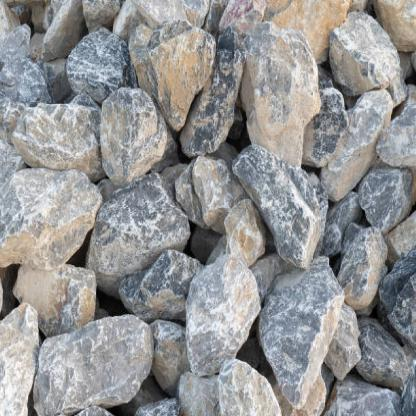Sedimentary_Limestone: (266, 253, 346, 412), (90, 176, 200, 290), (32, 313, 155, 412), (229, 139, 321, 263), (246, 26, 322, 176), (125, 9, 216, 125), (183, 244, 263, 374), (3, 166, 110, 258), (322, 82, 396, 205), (329, 9, 408, 116), (9, 97, 104, 174), (15, 248, 101, 331), (64, 23, 130, 112), (340, 220, 386, 312)
